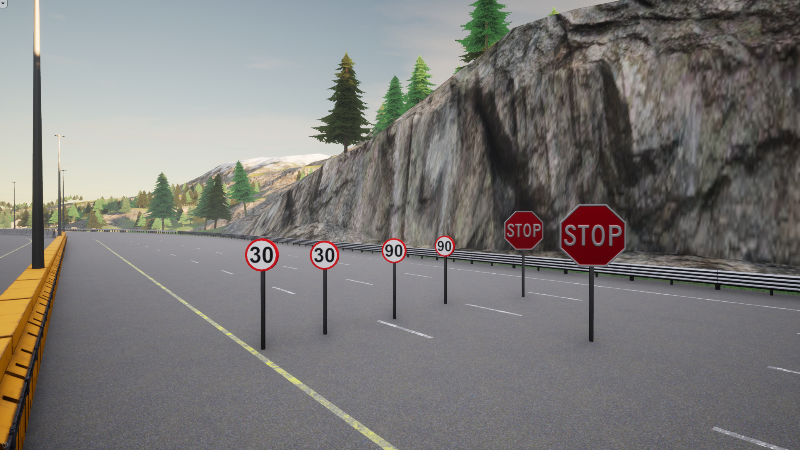fast: (381, 238, 407, 263), (434, 235, 455, 257)
slow: (244, 238, 280, 271), (310, 240, 340, 270)
stop: (558, 203, 627, 267), (504, 210, 545, 252)
